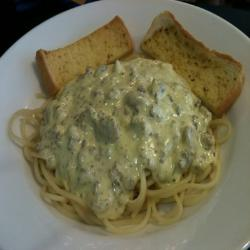bread: (141, 10, 250, 121), (25, 19, 143, 97)
carbonara: (21, 56, 231, 235)
